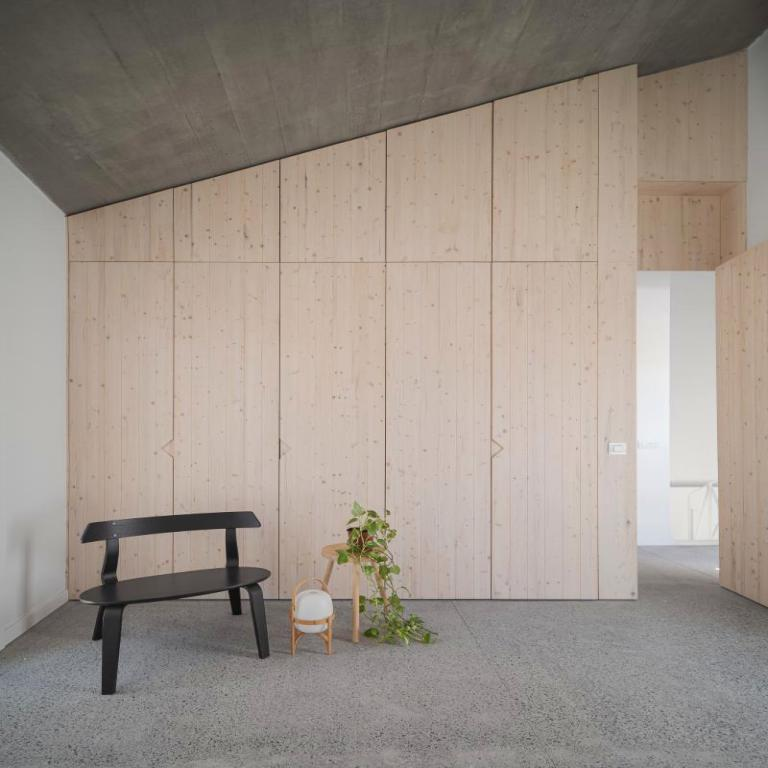white-walls: (6, 193, 59, 621)
